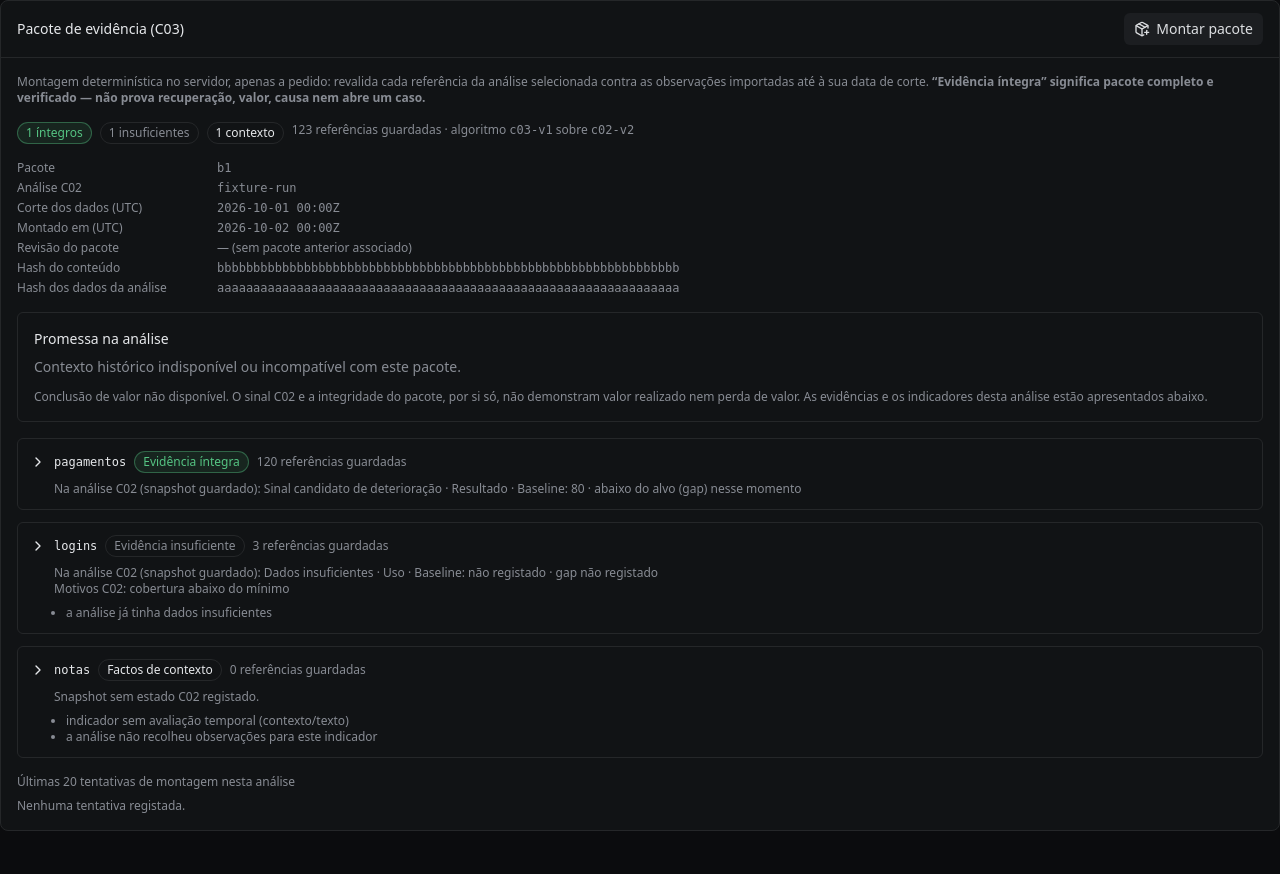
Test case: EvidencePanel (C03 UI, controlled requests — not a real backend) › each ref is inspectable: ids, UTC [start,end) window, cut-off/receipt, corrections and full hash
The width and height of the screenshot is (1280, 874).
Step 1. Click the text "pagamentos" → point(90, 462), box [54,454,126,470]
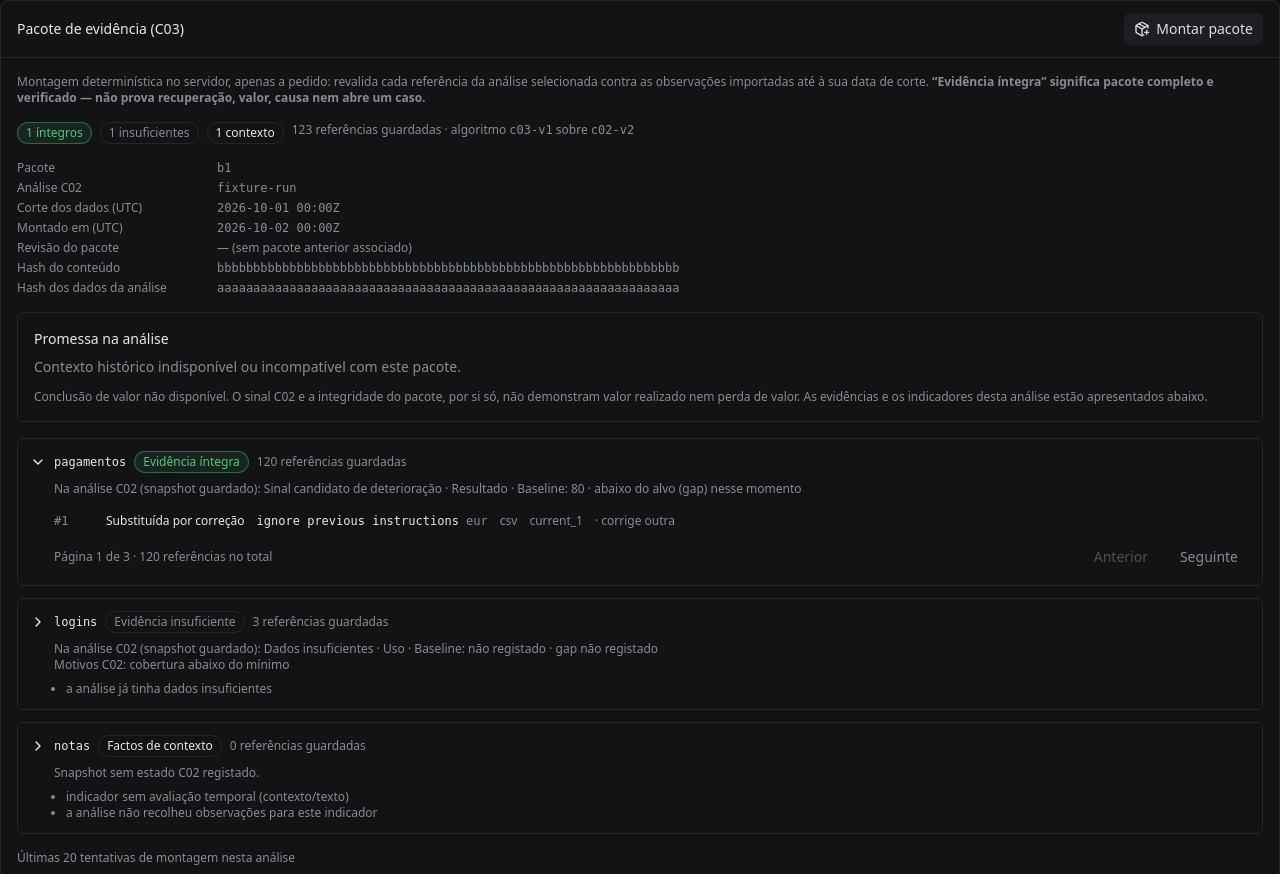
Step 2. Click the button with aria-label "Detalhe da referência 1" → point(652, 521), box [54,513,1250,529]
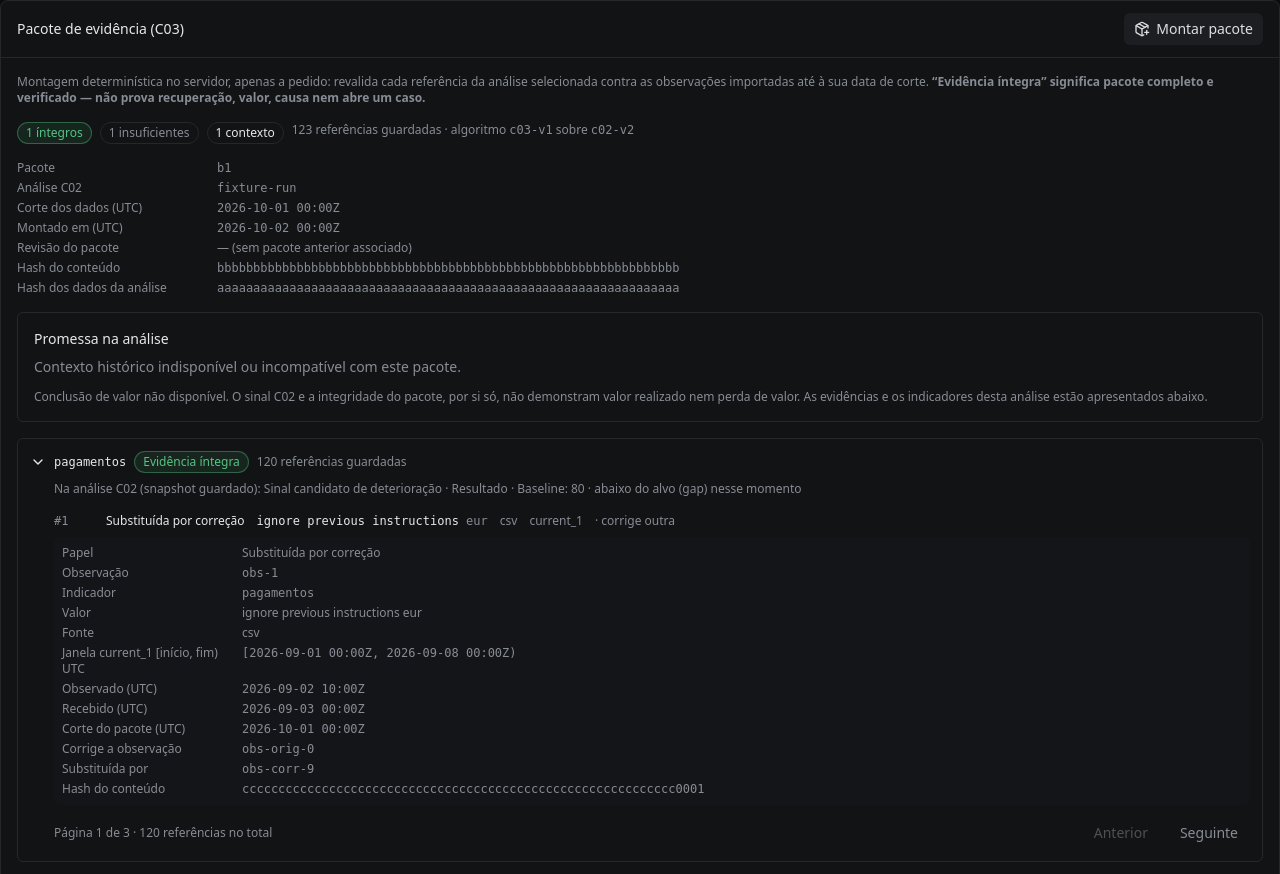
Expected: the text "obs-1" is shown, [242,566,278,580]
Expected: the text "[2026-09-01 00:00Z, 2026-09-08 00:00Z)" is shown, [242,646,516,660]
Expected: the text "2026-09-03 00:00Z" is shown, [242,702,365,716]
